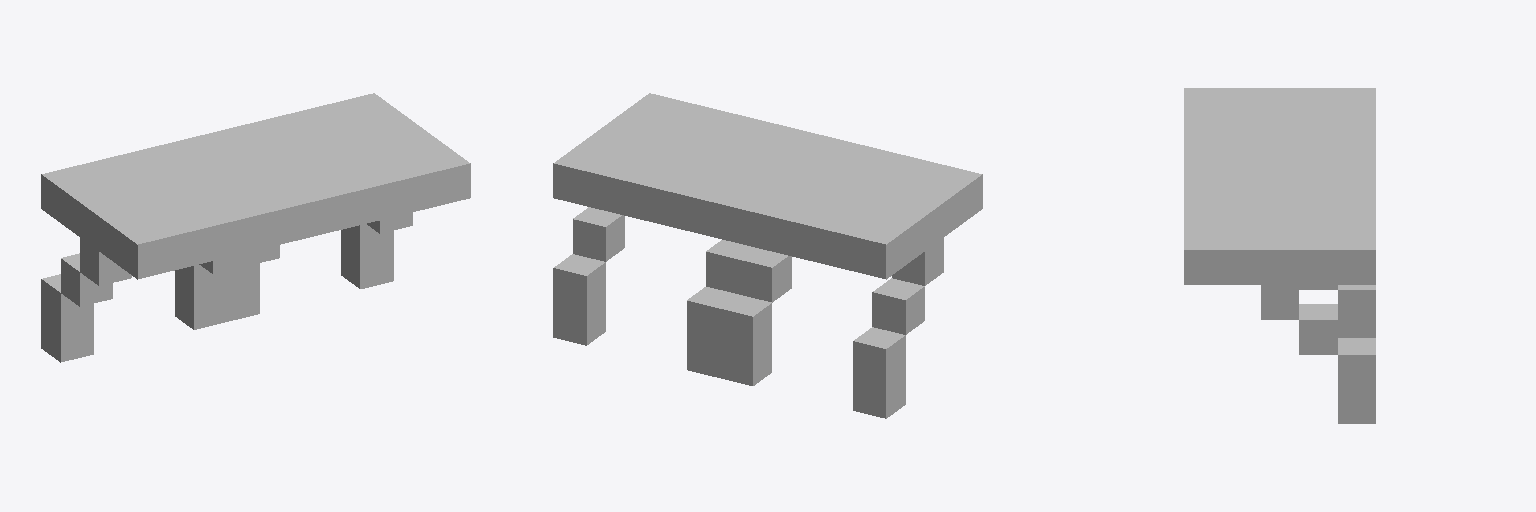
File: mini table.obj
3 views of the same model, side by side, from view 1: azimuth 30°, elevation 25°; view 2: azimuth 150°, elevation 25°; view 3: azimuth 270°, elevation 25° (orthographic).
Parts seen in each view (by area): view 1: object 1; view 2: object 1; view 3: object 1.
Boxes of the visible parts, box(x1,y1,x2,y2) form: object 1: box(41, 93, 470, 362); object 1: box(553, 93, 982, 418); object 1: box(1184, 88, 1375, 423).
Bounding box in the file's own units: 1 × 0.5 × 0.5.